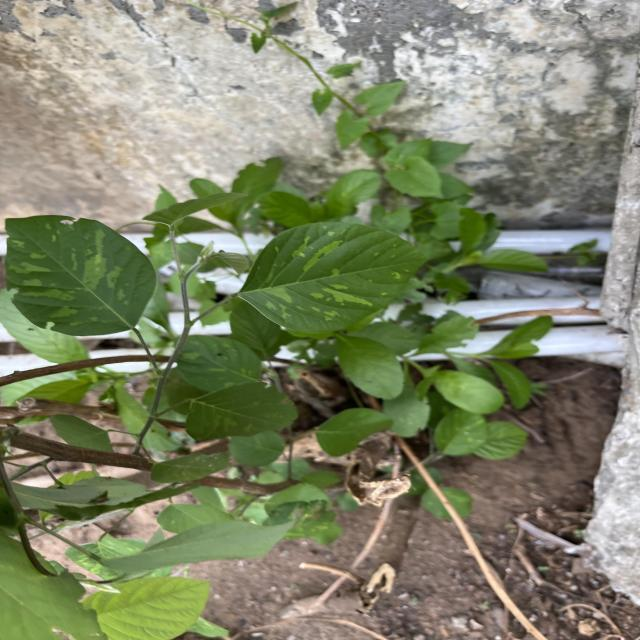Desmodium gangeticum: (232, 219, 434, 337)
